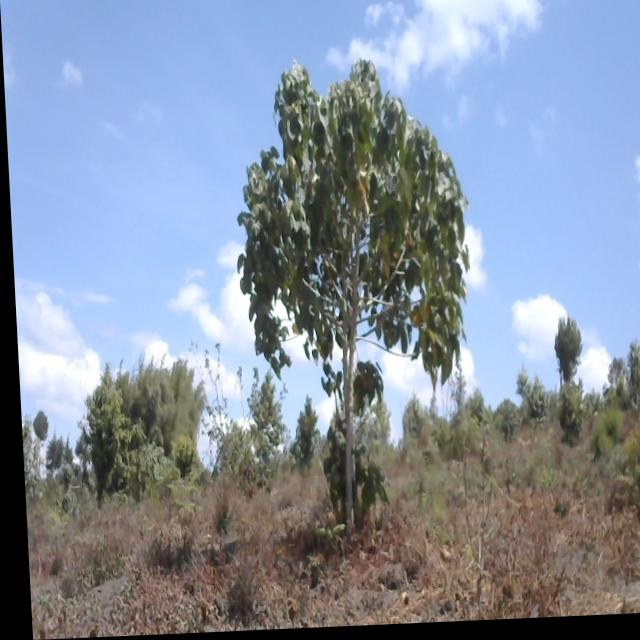cedrus: (39, 426, 52, 479), (49, 425, 61, 481), (58, 428, 70, 478)
other: (225, 38, 483, 539), (76, 386, 134, 499), (542, 312, 586, 424), (287, 394, 318, 471), (25, 404, 45, 447)
